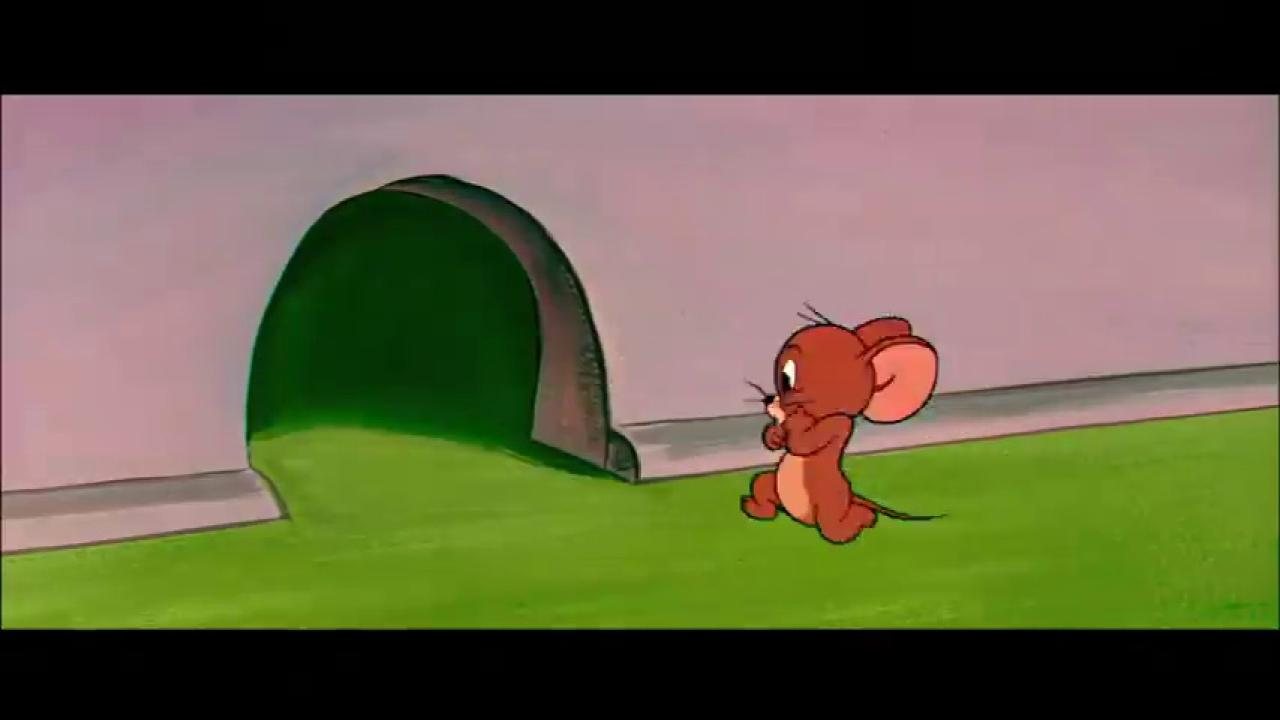Jerry: (734, 298, 948, 546)
